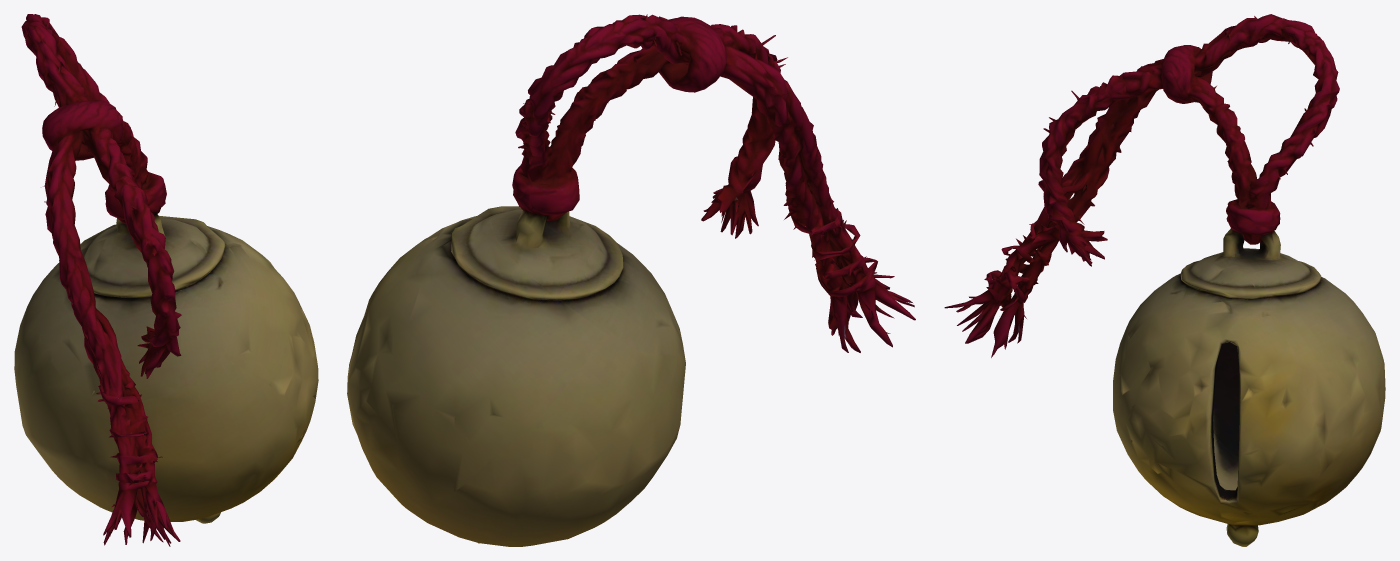
File: offer-suzu.glb
3 renders of one model, left to right at view 1: azimuth 30°, elevation 25°; view 2: azimuth 150°, elevation 25°; view 3: azimuth 270°, elevation 25°, orthographic. The views are drawn at different scales.
Visible parts, largest first — view 1: tripo_node_7d3c06d8-c8f7-43b0-8042-c23132399c54; view 2: tripo_node_7d3c06d8-c8f7-43b0-8042-c23132399c54; view 3: tripo_node_7d3c06d8-c8f7-43b0-8042-c23132399c54.
Part boxes in pixels (bbox=[...]): tripo_node_7d3c06d8-c8f7-43b0-8042-c23132399c54: bbox=[14, 14, 318, 546]; tripo_node_7d3c06d8-c8f7-43b0-8042-c23132399c54: bbox=[347, 14, 915, 546]; tripo_node_7d3c06d8-c8f7-43b0-8042-c23132399c54: bbox=[944, 14, 1385, 546].
Bounding box in the file's own units: 0.6842 × 0.9992 × 0.8555.
1 material, 1 textured.
